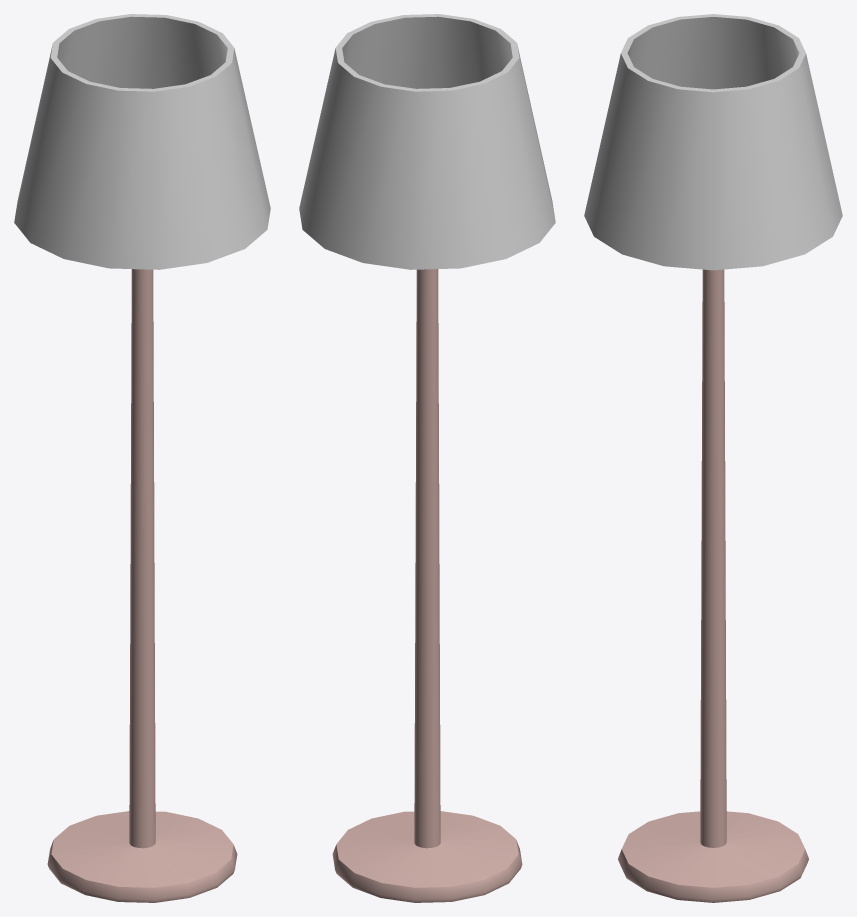
File: piantana.fbx
The picture shows the model from 3 angles, left to right: view 1: azimuth 30°, elevation 25°; view 2: azimuth 150°, elevation 25°; view 3: azimuth 270°, elevation 25°; orthographic projection.
Visible parts, largest first — view 1: Piantana; view 2: Piantana; view 3: Piantana.
Part boxes in pixels (x1,y1,x2,y2): Piantana: (14,14,270,902); Piantana: (299,14,555,902); Piantana: (584,14,842,902).
Bounding box in the file's own units: 41.21 × 142 × 41.21.
